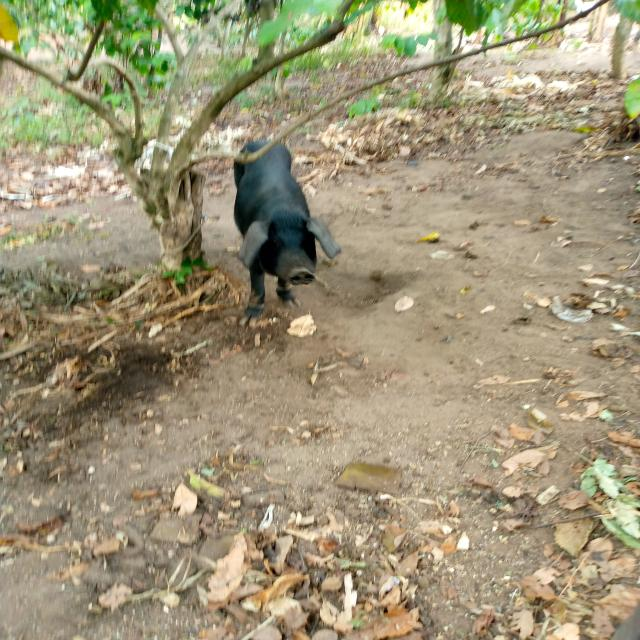pig: (197, 114, 375, 359)
